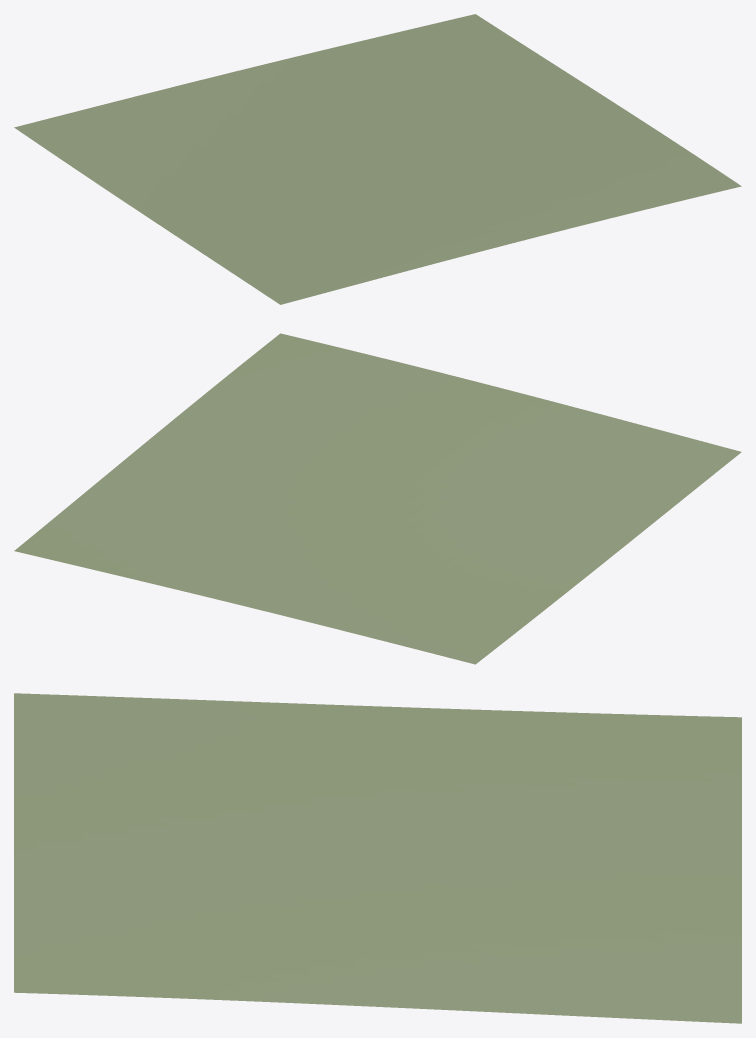
The model's file is expanse-4-11.glb.
The picture shows the model from 3 angles, top to bottom: view 1: azimuth 30°, elevation 25°; view 2: azimuth 150°, elevation 25°; view 3: azimuth 270°, elevation 25°; orthographic projection. The views are drawn at different scales.
Parts seen in each view (by area): view 1: expanse-4-11; view 2: expanse-4-11; view 3: expanse-4-11.
Boxes of the visible parts, <box> form: expanse-4-11: <box>14,14,741,304</box>; expanse-4-11: <box>14,333,741,664</box>; expanse-4-11: <box>14,693,741,1023</box>.
Bounding box in the file's own units: 256 × 12.61 × 256.
